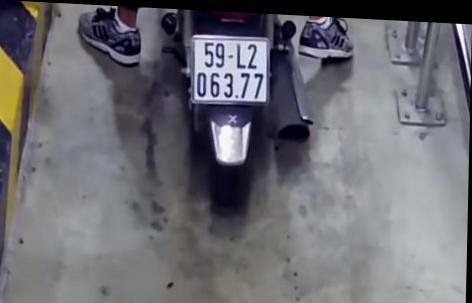License_Plate: (181, 27, 278, 111)
